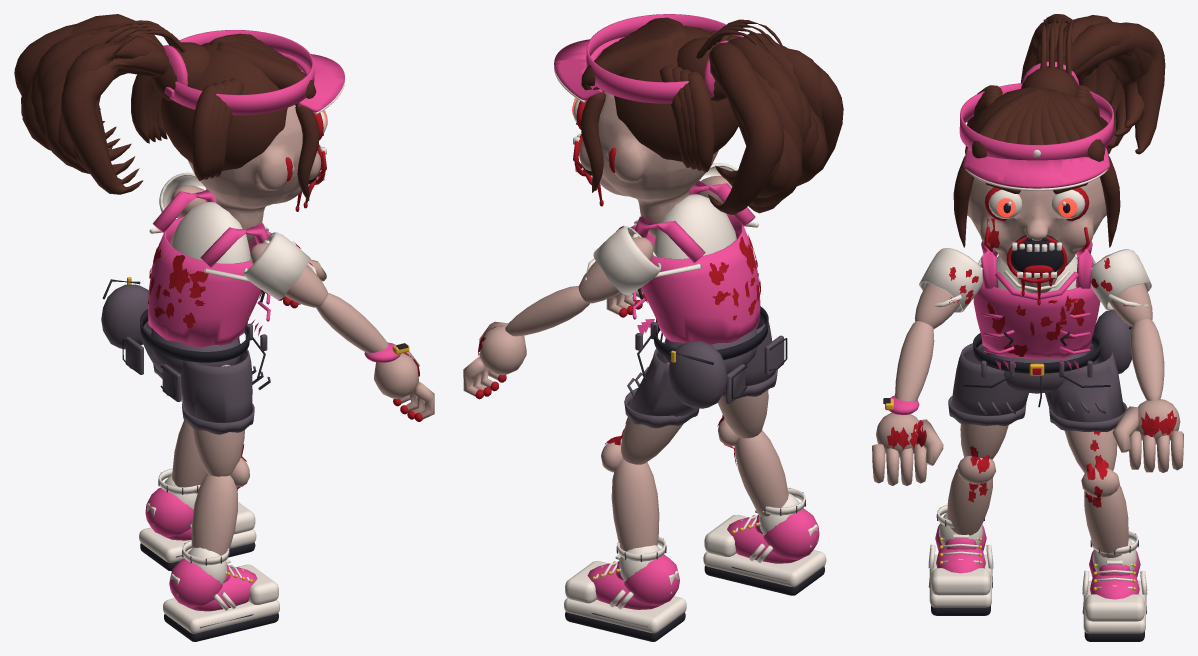
The picture shows the model from 3 angles, left to right: view 1: azimuth 30°, elevation 25°; view 2: azimuth 150°, elevation 25°; view 3: azimuth 270°, elevation 25°; orthographic projection. The views are drawn at different scales.
Parts seen in each view (by area): view 1: head__pal_woodWarm, torso__pal_survivorRed, head__pal_survivorRed, head__pal_infectedSkin, legR__pal_asphalt, hip__pal_asphalt, footR__pal_picketWhite, shinR__pal_infectedSkin, torso__pal_picketWhite, footR__pal_survivorRed, armR__pal_picketWhite, footL__pal_picketWhite (+11 smaller); view 2: head__pal_woodWarm, torso__pal_survivorRed, head__pal_infectedSkin, head__pal_survivorRed, hip__pal_asphalt, footL__pal_picketWhite, footR__pal_picketWhite, shinL__pal_infectedSkin, torso__pal_picketWhite, shinR__pal_infectedSkin, legL__pal_asphalt, footR__pal_survivorRed (+13 smaller); view 3: head__pal_woodWarm, torso__pal_survivorRed, head__pal_survivorRed, head__pal_infectedSkin, legL__pal_asphalt, legR__pal_asphalt, footL__pal_picketWhite, footR__pal_picketWhite, hip__pal_asphalt, handL__pal_infectedSkin, handR__pal_infectedSkin, shinL__pal_infectedSkin (+23 smaller).
Part boxes in pixels (x1,y1,x2,y2): head__pal_woodWarm: (14,14,319,200); torso__pal_survivorRed: (148,189,271,347); head__pal_survivorRed: (163,30,344,115); head__pal_infectedSkin: (188,105,321,243); legR__pal_asphalt: (180,343,270,434); hip__pal_asphalt: (101,284,267,401); footR__pal_picketWhite: (163,540,279,633); shinR__pal_infectedSkin: (191,457,249,555); torso__pal_picketWhite: (149,202,269,281); footR__pal_survivorRed: (169,558,257,611); armR__pal_picketWhite: (244,232,316,299); footL__pal_picketWhite: (139,468,256,562); head__pal_woodWarm: (580,17,843,214); torso__pal_survivorRed: (630,180,760,344); head__pal_infectedSkin: (579,91,718,237); head__pal_survivorRed: (554,14,743,103); hip__pal_asphalt: (635,321,784,408); footL__pal_picketWhite: (564,537,686,633); footR__pal_picketWhite: (703,488,826,587); shinL__pal_infectedSkin: (601,438,659,551); torso__pal_picketWhite: (632,194,758,277); shinR__pal_infectedSkin: (718,418,788,516); legL__pal_asphalt: (624,341,699,428); footR__pal_survivorRed: (727,508,819,563); head__pal_woodWarm: (953,14,1165,247); torso__pal_survivorRed: (973,241,1100,371); head__pal_survivorRed: (959,61,1114,188); head__pal_infectedSkin: (967,177,1106,292); legL__pal_asphalt: (1045,343,1127,431); legR__pal_asphalt: (948,343,1028,425); footL__pal_picketWhite: (1082,531,1147,633); footR__pal_picketWhite: (928,505,993,607); hip__pal_asphalt: (981,310,1131,393); handL__pal_infectedSkin: (1112,399,1183,472); handR__pal_infectedSkin: (872,413,943,485); shinL__pal_infectedSkin: (1081,468,1128,557).
Size of what is drawn, in the model's own units: 0.9754 by 1.74 by 0.8821.
